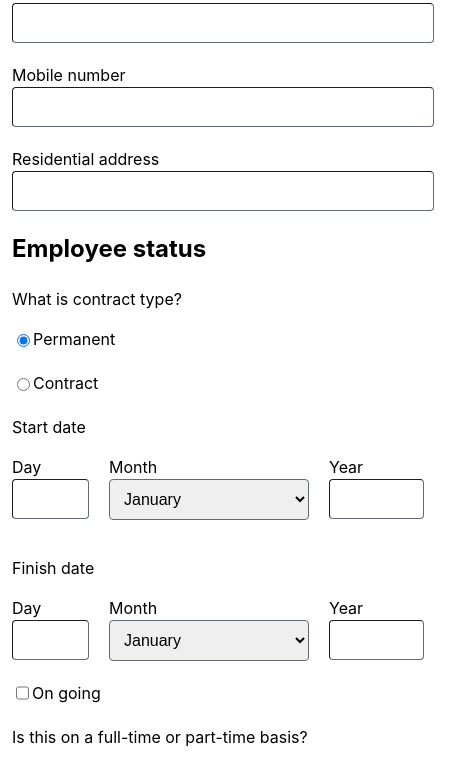
Test case: EmployeeForm component › Verify that the first radio button is selected and user can select another radio button
(page scrolled)
Check: the radio button labelled "Permanent" is checked, box left=17, top=330, right=30, bottom=351
Click the radio button labelled "Contract" at (24, 384), box left=17, top=374, right=30, bottom=395
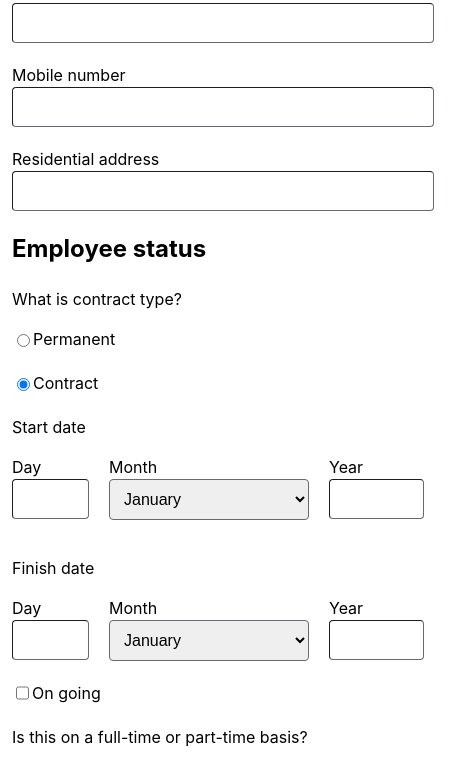
Check: the radio button labelled "Contract" is checked, box left=17, top=374, right=30, bottom=395
Check: the radio button labelled "Permanent" is not checked, box left=17, top=330, right=30, bottom=351
